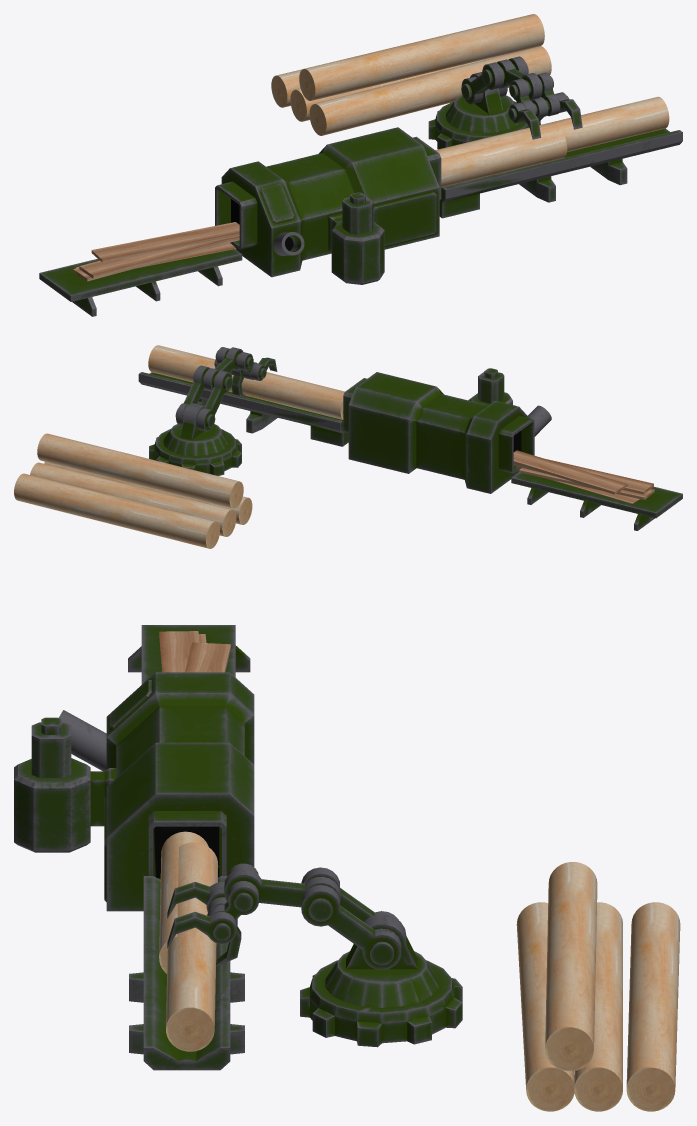
File: 4_WoodExtraction_ElectroSawmill.fbx
The picture shows the model from 3 angles, top to bottom: view 1: azimuth 30°, elevation 25°; view 2: azimuth 150°, elevation 25°; view 3: azimuth 270°, elevation 25°; orthographic projection. The views are drawn at different scales.
Visible parts, largest first — view 1: Saw_01, Log_01_L_01__5_, Log_01_L_01__3_, Log_01_L_01__2_, Log_01_L_01, M_02_L_01, Plank_01_L_01__3_, Plank_01_L_01__4_, M_03_L_01, M_01_L_01, M_04_01_L_01, M_04_00_L_01 (+4 smaller); view 2: Saw_01, Log_01_L_01__5_, Log_01_L_01__4_, Log_01_L_01__2_, Log_01_L_01__1_, M_02_L_01, M_01_L_01, M_03_L_01, Plank_01_L_01__3_, Log_01_L_01__3_, Saw_02_L_01, Plank_01_L_01__4_ (+5 smaller); view 3: Saw_01, Log_01_L_01__5_, Log_01_L_01__4_, Log_01_L_01__2_, M_01_L_01, Log_01_L_01__1_, Log_01_L_01__3_, M_02_L_01, M_03_L_01, M_04_01_L_01, Log_01_L_01, Saw_02_L_01 (+4 smaller).
Part boxes in pixels (x1=…): Saw_01: x1=39, y1=127, x2=682, y2=316; Log_01_L_01__5_: x1=299, y1=14, x2=544, y2=100; Log_01_L_01__3_: x1=309, y1=46, x2=551, y2=135; Log_01_L_01__2_: x1=435, y1=96, x2=669, y2=158; Log_01_L_01: x1=441, y1=130, x2=567, y2=187; M_02_L_01: x1=446, y1=72, x2=518, y2=133; Plank_01_L_01__3_: x1=91, y1=222, x2=239, y2=262; Plank_01_L_01__4_: x1=79, y1=237, x2=232, y2=278; M_03_L_01: x1=461, y1=56, x2=528, y2=104; M_01_L_01: x1=428, y1=101, x2=529, y2=149; M_04_01_L_01: x1=508, y1=92, x2=582, y2=139; M_04_00_L_01: x1=509, y1=72, x2=560, y2=121; Saw_01: x1=138, y1=372, x2=682, y2=530; Log_01_L_01__5_: x1=37, y1=433, x2=243, y2=508; Log_01_L_01__4_: x1=14, y1=473, x2=219, y2=548; Log_01_L_01__2_: x1=148, y1=345, x2=344, y2=419; Log_01_L_01__1_: x1=30, y1=462, x2=236, y2=536; M_02_L_01: x1=163, y1=403, x2=228, y2=455; M_01_L_01: x1=149, y1=429, x2=241, y2=475; M_03_L_01: x1=175, y1=365, x2=232, y2=431; Plank_01_L_01__3_: x1=513, y1=450, x2=627, y2=494; Log_01_L_01__3_: x1=44, y1=461, x2=252, y2=524; Saw_02_L_01: x1=478, y1=372, x2=504, y2=403; Plank_01_L_01__4_: x1=546, y1=459, x2=653, y2=494; Saw_01: x1=14, y1=625, x2=254, y2=1070; Log_01_L_01__5_: x1=545, y1=862, x2=597, y2=1071; Log_01_L_01__4_: x1=626, y1=902, x2=680, y2=1111; Log_01_L_01__2_: x1=166, y1=842, x2=218, y2=1051; M_01_L_01: x1=300, y1=960, x2=462, y2=1047; Log_01_L_01__1_: x1=574, y1=902, x2=622, y2=1111; Log_01_L_01__3_: x1=516, y1=902, x2=574, y2=1111; M_02_L_01: x1=325, y1=914, x2=438, y2=1007; M_03_L_01: x1=301, y1=867, x2=401, y2=970; M_04_01_L_01: x1=167, y1=882, x2=236, y2=948; Log_01_L_01: x1=159, y1=831, x2=208, y2=973; Saw_02_L_01: x1=31, y1=722, x2=71, y2=777.
Size of the model in its own units: 2147 by 417 by 1368.
